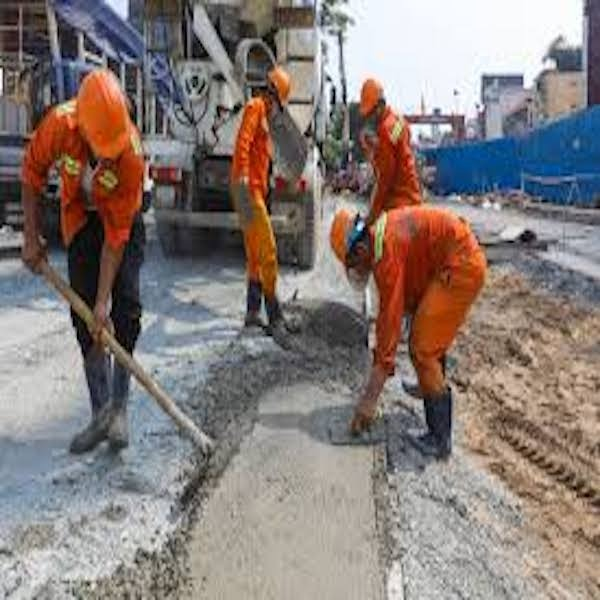helmet: (78, 69, 134, 155), (330, 207, 361, 268), (354, 74, 388, 121), (268, 62, 293, 102)
vest: (373, 208, 480, 284), (233, 99, 275, 205), (368, 123, 417, 206)
